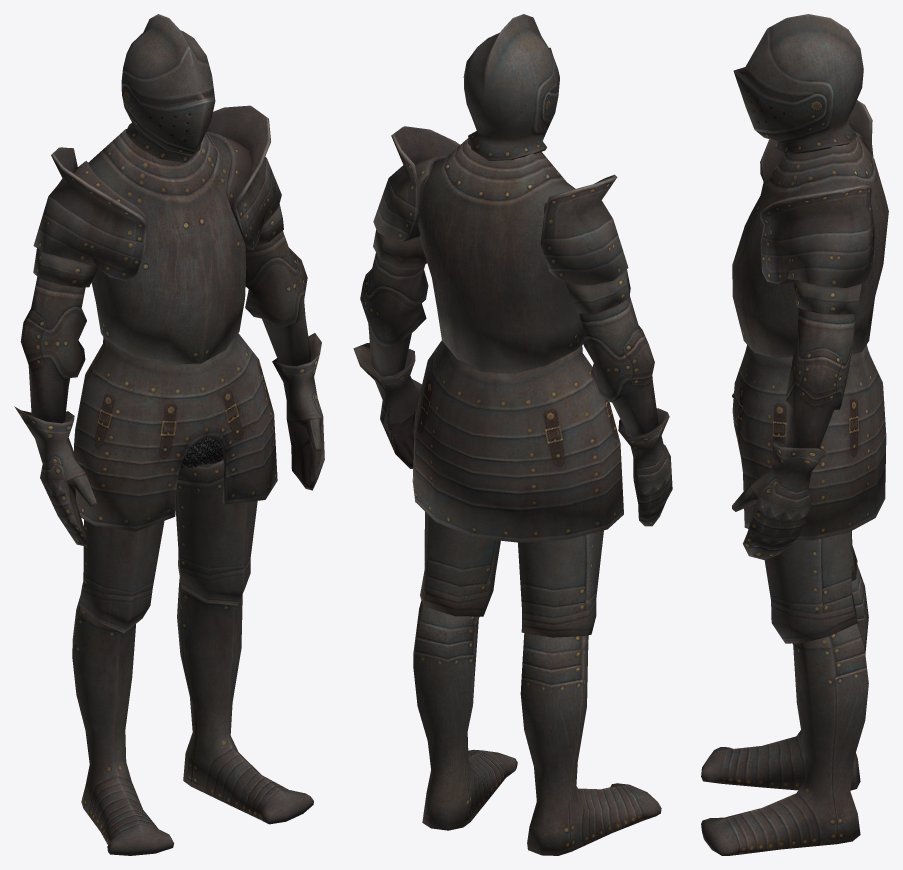
Rendered from ArmorSuit.FBX.
3 views of the same model, side by side, from view 1: azimuth 30°, elevation 25°; view 2: azimuth 150°, elevation 25°; view 3: azimuth 270°, elevation 25° (orthographic). The views are drawn at different scales.
Visible parts, largest first — view 1: SM_ArmorSuit; view 2: SM_ArmorSuit; view 3: SM_ArmorSuit.
Part boxes in pixels (left/top/right/bottom): SM_ArmorSuit: left=14, top=14, right=324, bottom=855; SM_ArmorSuit: left=353, top=14, right=672, bottom=855; SM_ArmorSuit: left=701, top=14, right=888, bottom=855.
Size of what is drawn, in the model's own units: 58.89 by 31.39 by 147.
